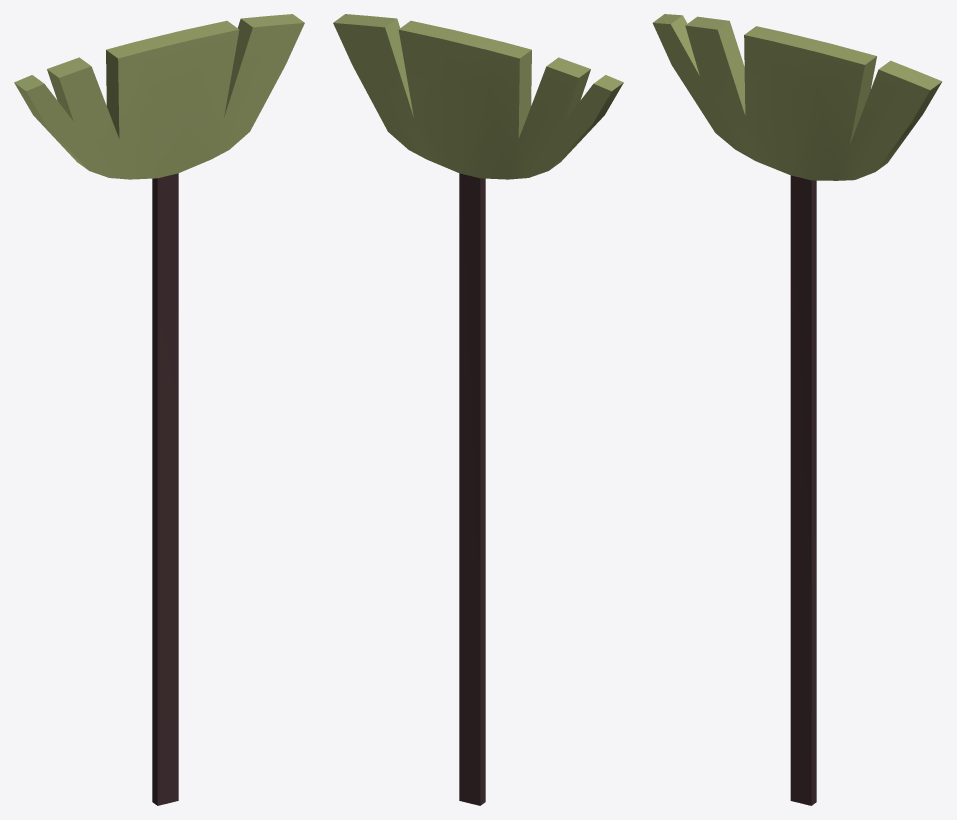
The model's file is plant_C_single.fbx.
The picture shows the model from 3 angles, left to right: view 1: azimuth 30°, elevation 25°; view 2: azimuth 150°, elevation 25°; view 3: azimuth 330°, elevation 25°; orthographic projection.
Visible parts, largest first — view 1: plant_C_single; view 2: plant_C_single; view 3: plant_C_single.
Boxes of the visible parts, box(x1,y1,x2,y2) form: plant_C_single: box(14, 14, 304, 805); plant_C_single: box(333, 14, 623, 805); plant_C_single: box(652, 14, 942, 805).
Size of the model in its own units: 77.47 by 202 by 5.86.
